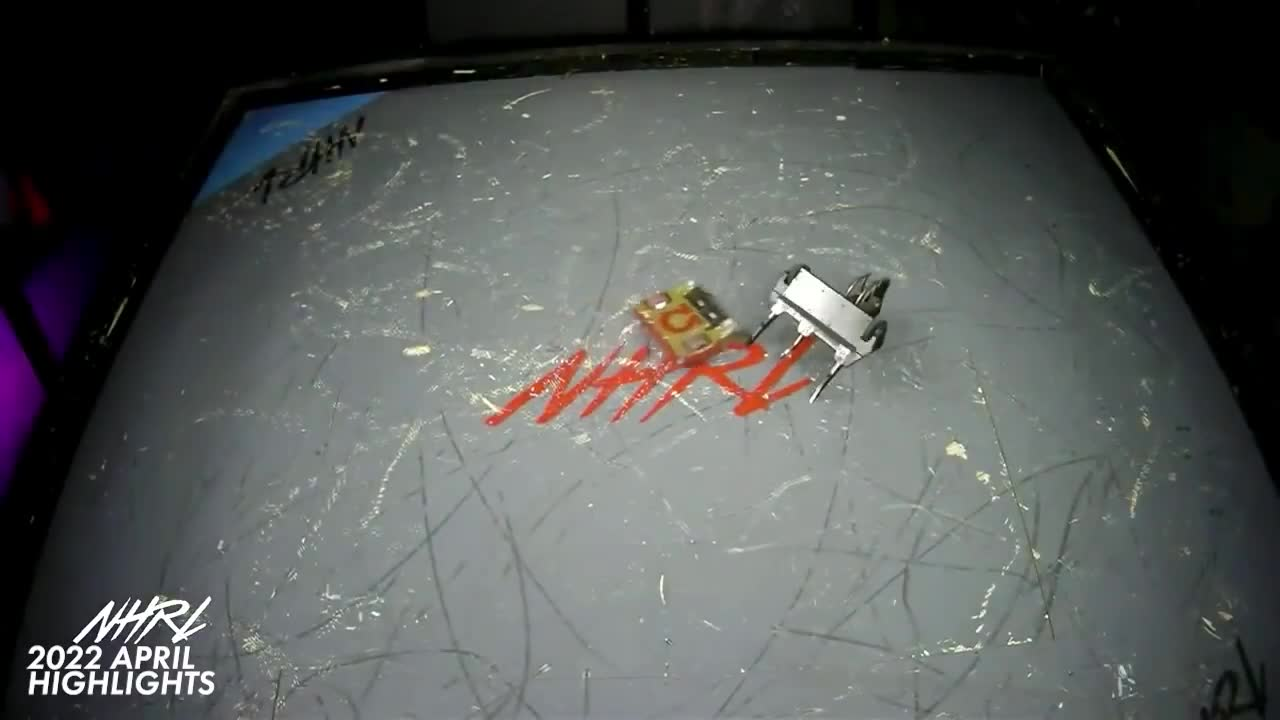combatbot: (766, 265, 890, 360), (632, 282, 736, 364)
